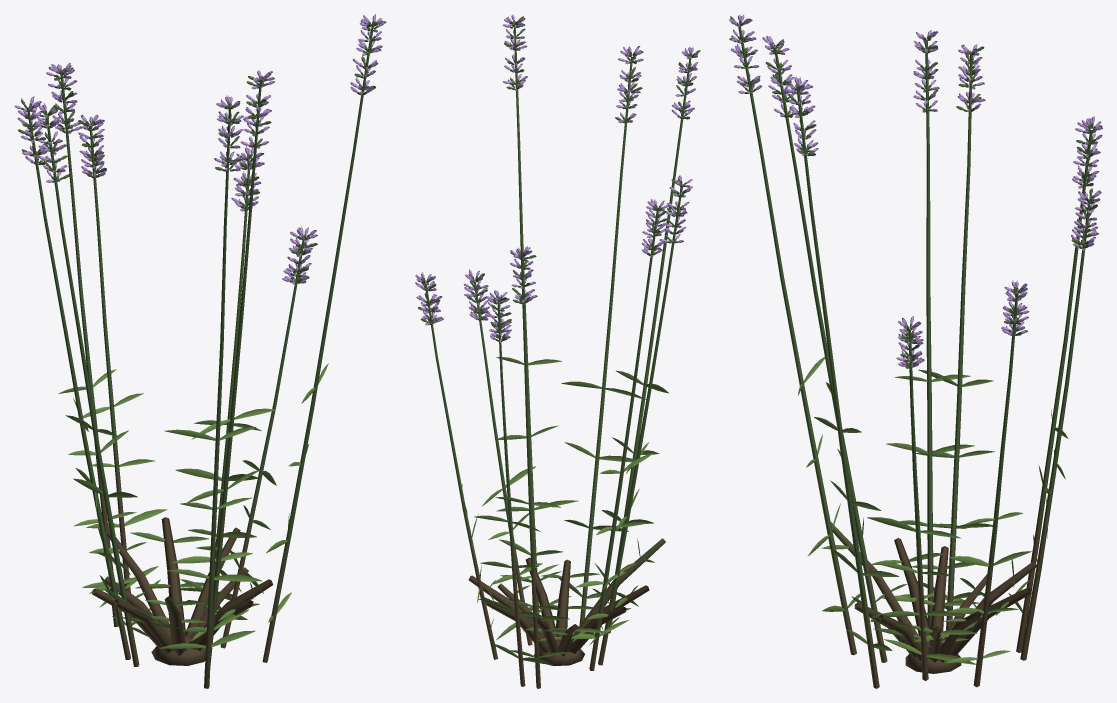
Rendered from Lavender.glb.
3 views of the same model, side by side, from view 1: azimuth 30°, elevation 25°; view 2: azimuth 150°, elevation 25°; view 3: azimuth 270°, elevation 25° (orthographic). The views are drawn at different scales.
Visible parts, largest first — view 1: Plant; view 2: Plant; view 3: Plant.
Boxes of the visible parts, bbox=[...] form: Plant: bbox=[14, 14, 386, 688]; Plant: bbox=[415, 15, 700, 688]; Plant: bbox=[729, 14, 1102, 688].
Size of the model in its own units: 0.3026 by 0.6749 by 0.3573.
